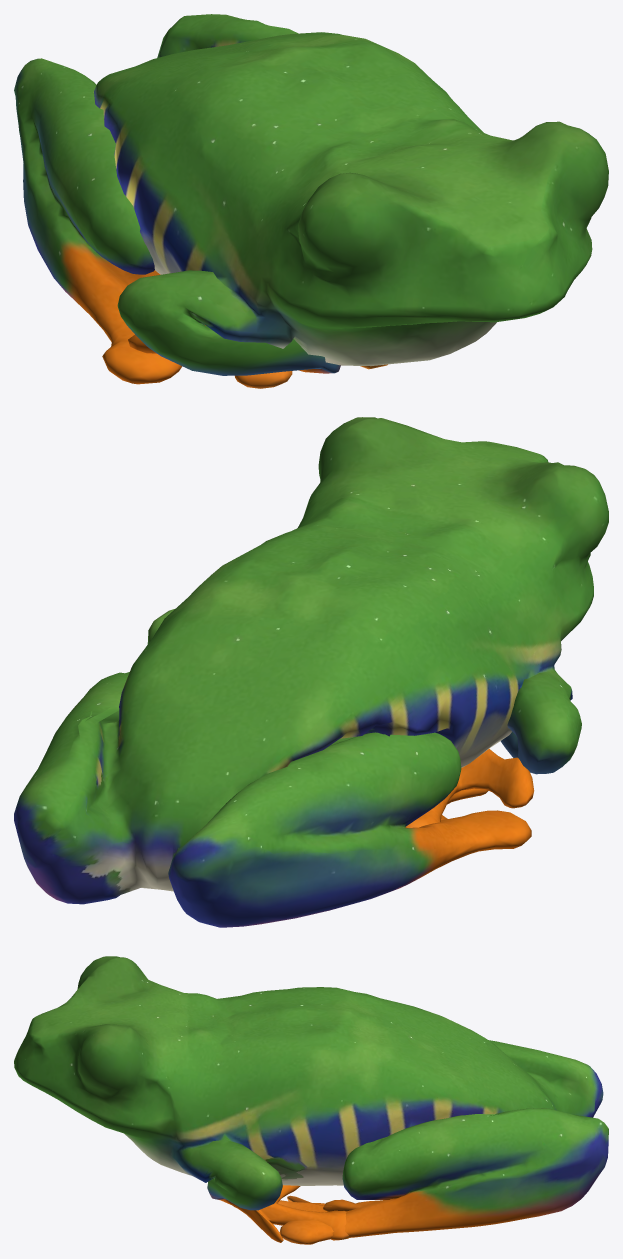
File: redeye.sleep.glb
3 views of the same model, one above another, from view 1: azimuth 30°, elevation 25°; view 2: azimuth 150°, elevation 25°; view 3: azimuth 270°, elevation 25° (orthographic). The views are drawn at different scales.
Visible parts, largest first — view 1: redeye.sleep; view 2: redeye.sleep; view 3: redeye.sleep.
Part boxes in pixels (left/top/right/bottom): redeye.sleep: left=14, top=14, right=608, bottom=388; redeye.sleep: left=14, top=417, right=608, bottom=927; redeye.sleep: left=14, top=956, right=608, bottom=1244.
Bounding box in the file's own units: 0.0347 × 0.0209 × 0.0586.
1 material, 1 textured.
